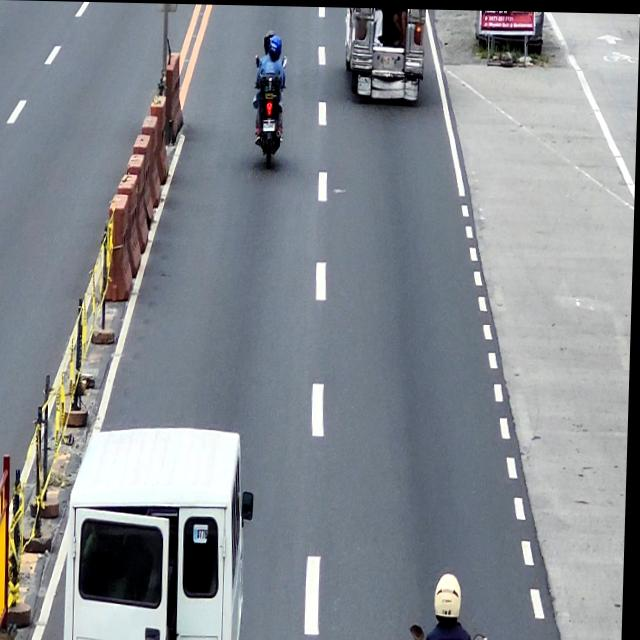Car: (66, 424, 257, 640)
Jeep: (343, 6, 426, 101)
License-Plate: (264, 121, 276, 131)
Motorcycle: (253, 53, 287, 168)
